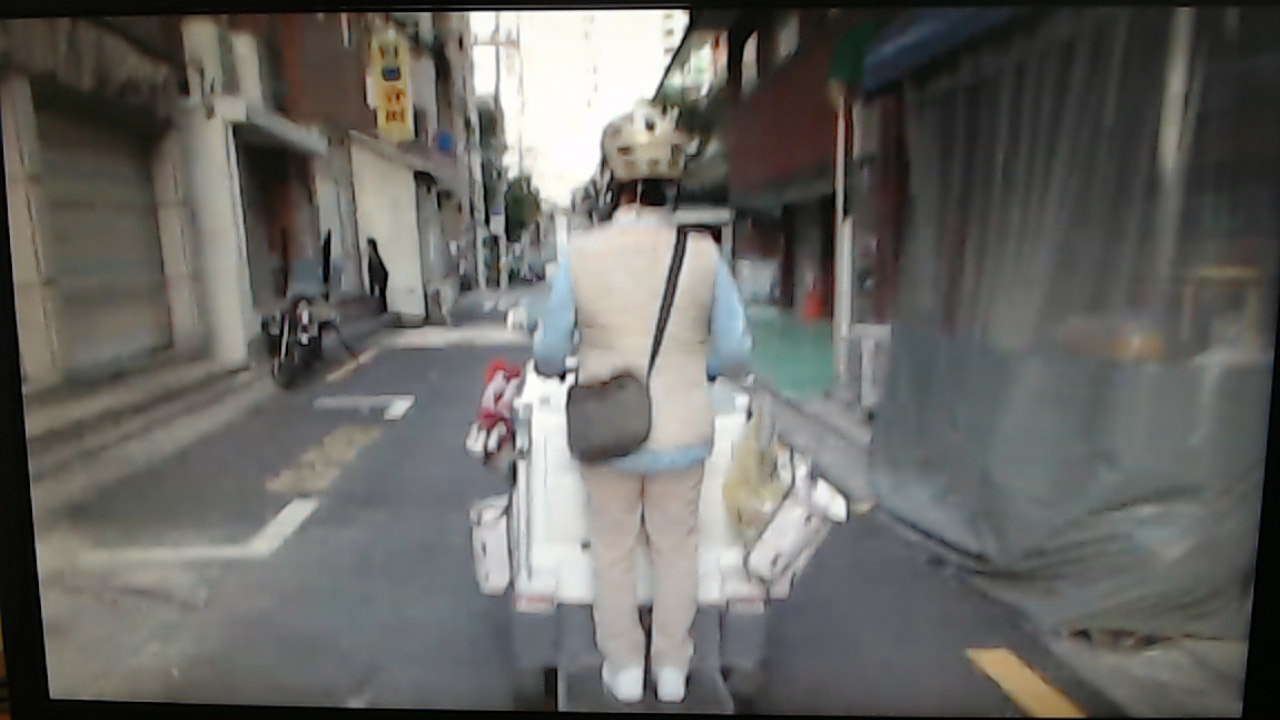Yakurut: (521, 101, 786, 718)
